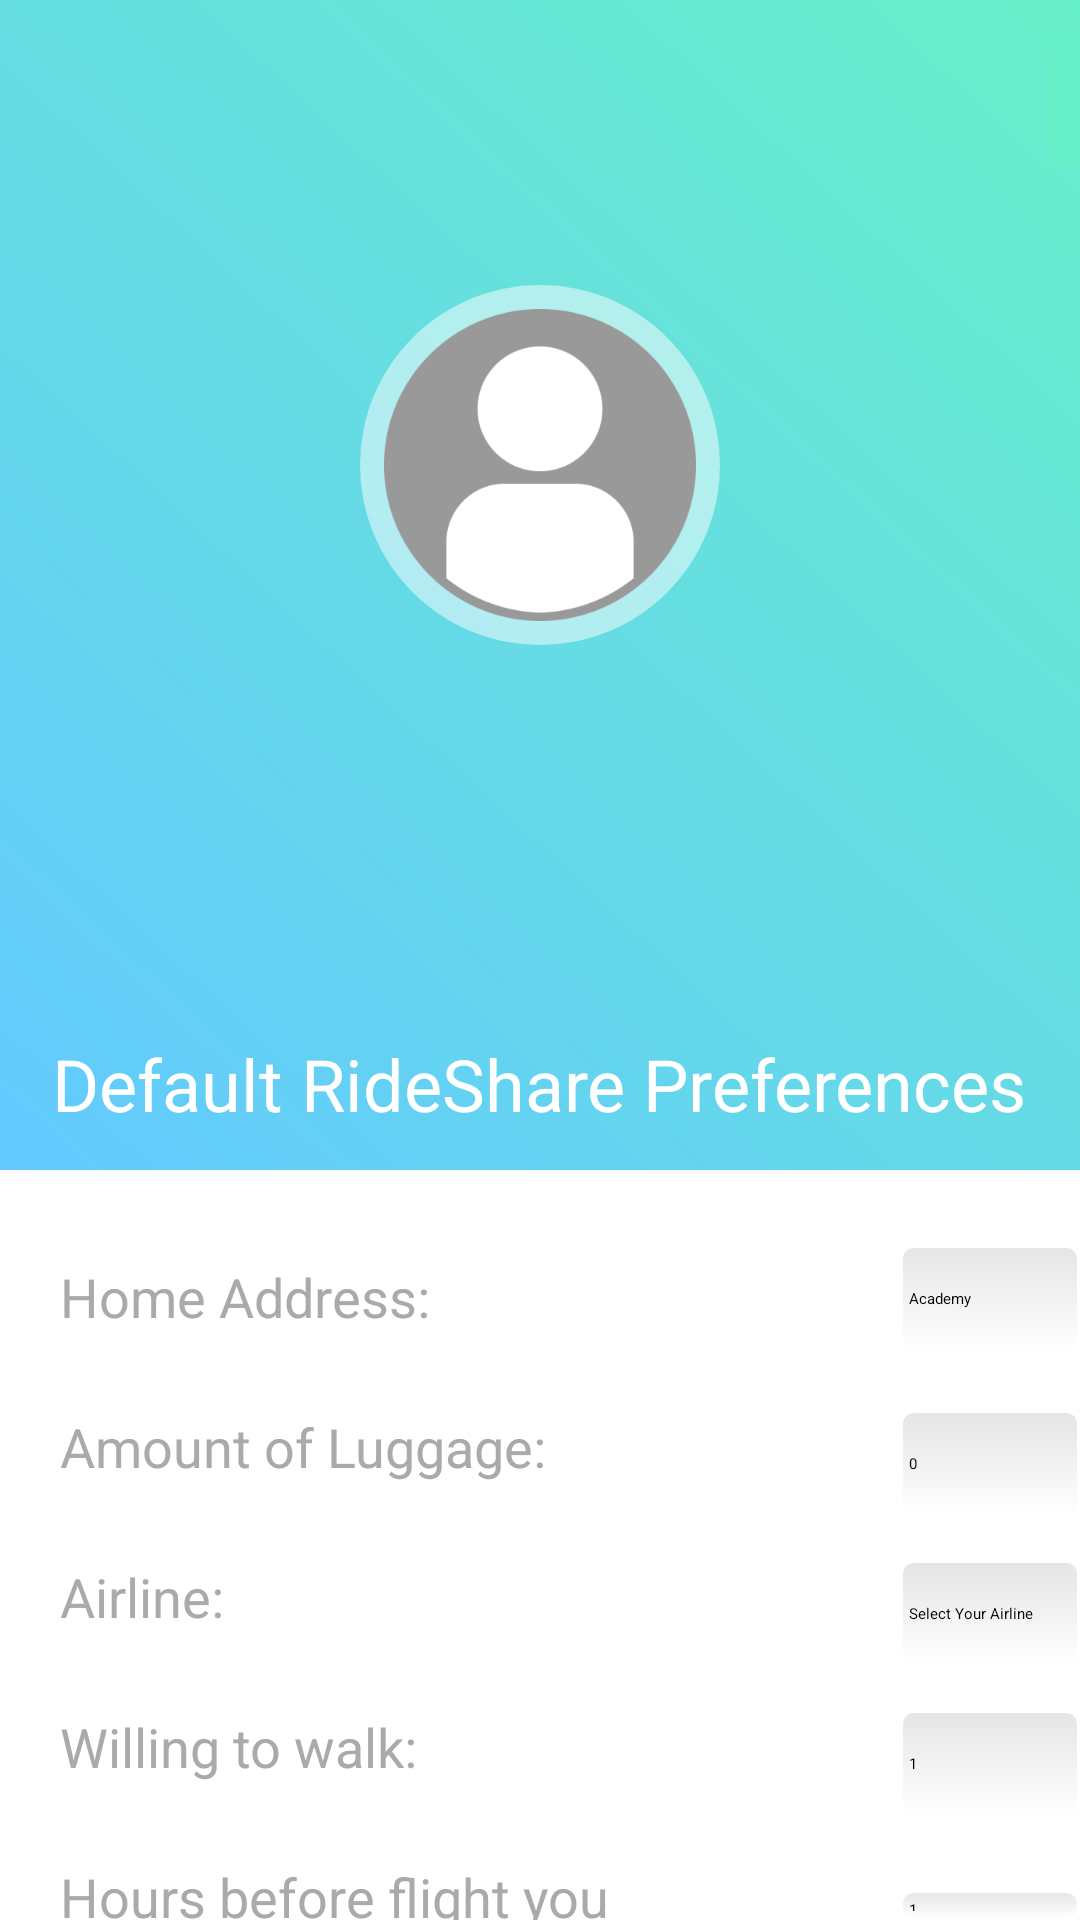

Screen size 1080*1920. Icon name, then its box in pixels as (x1, y1, x2, y2):
usericon: (360, 285, 720, 645)
